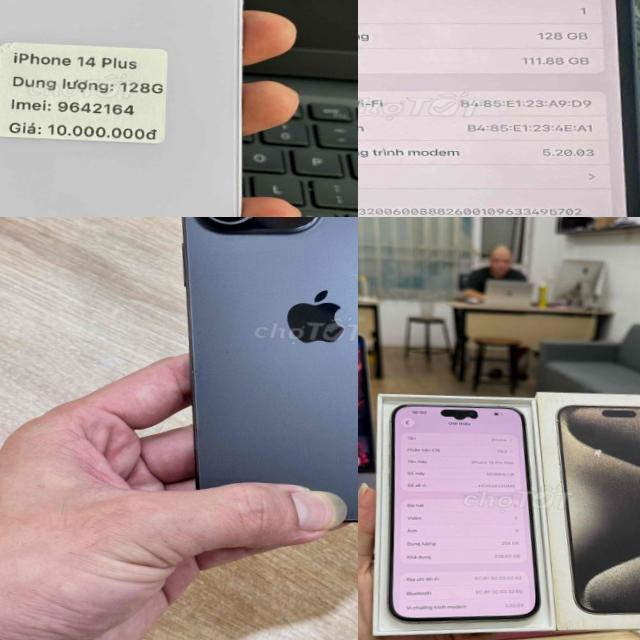gen_12_13: (358, 0, 640, 217)
gen_14: (0, 0, 276, 217)
gen_15: (148, 217, 358, 542), (375, 392, 554, 640)
